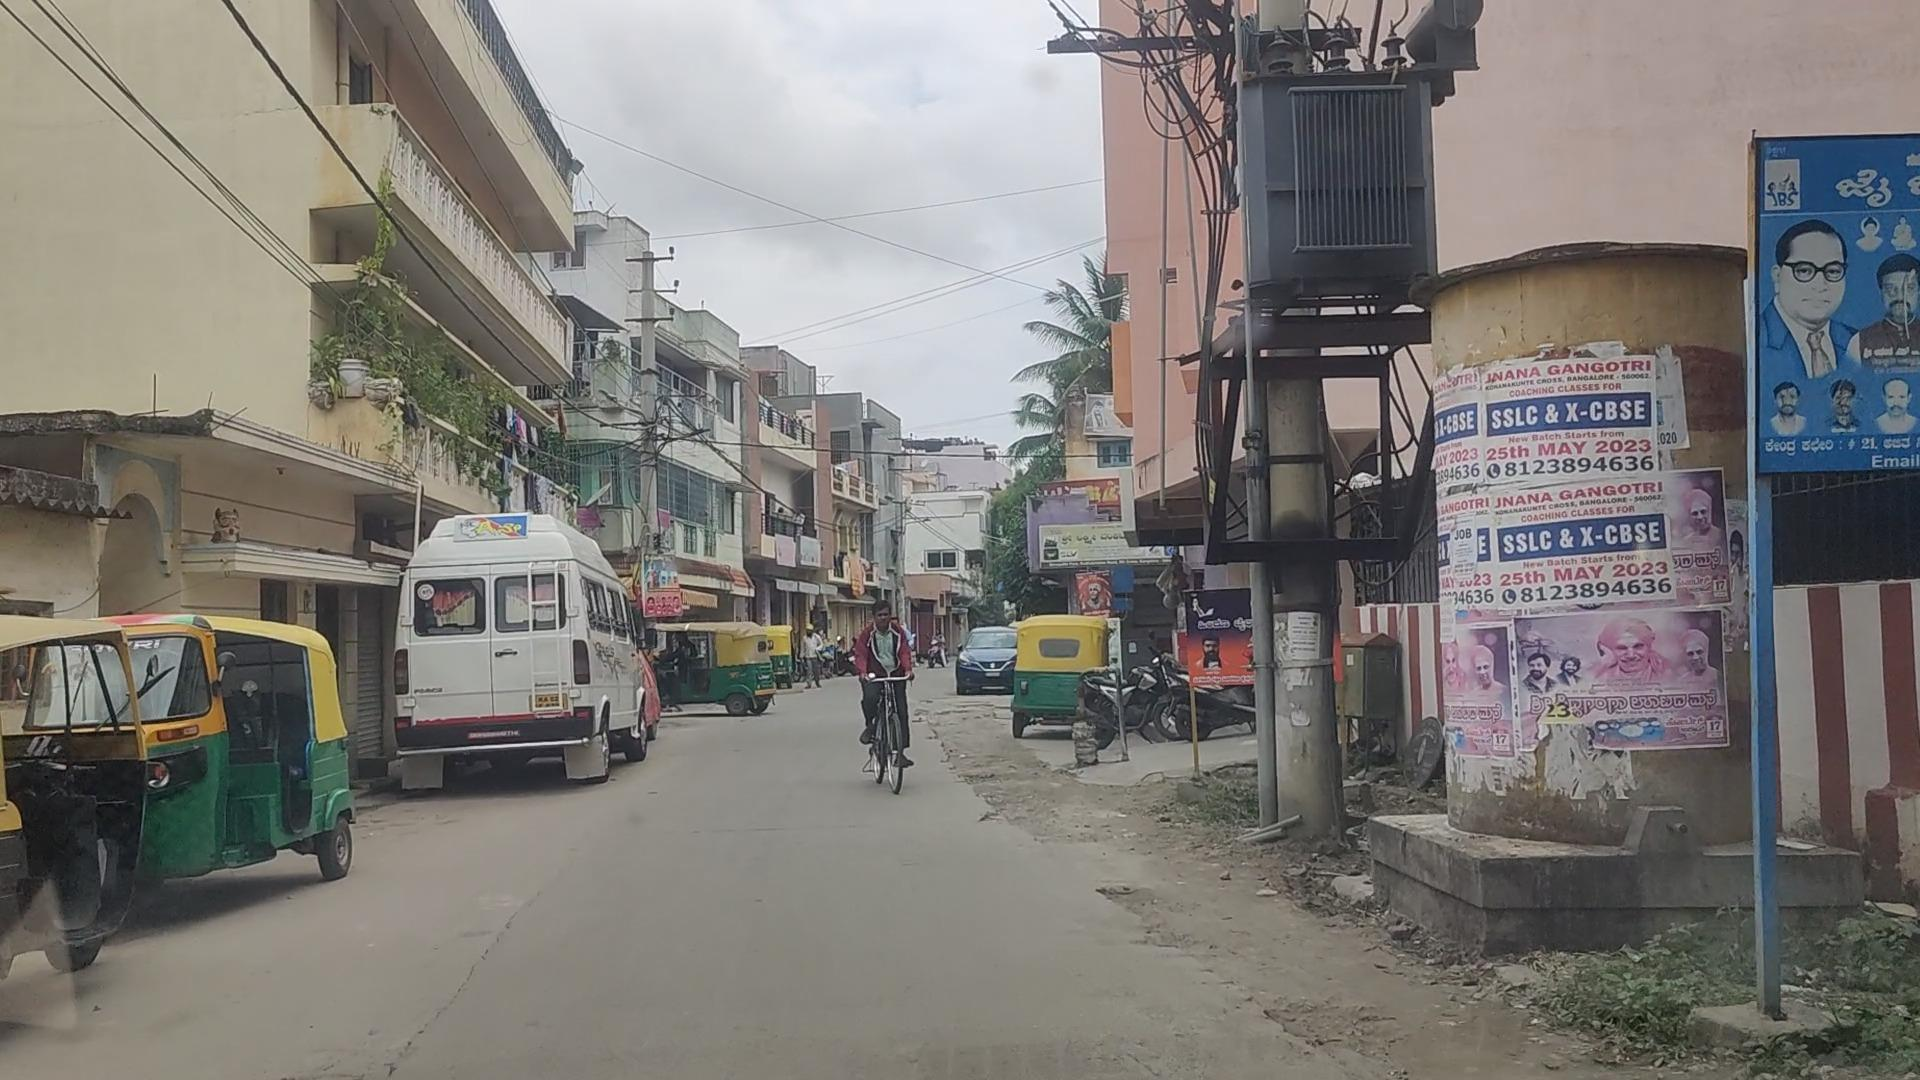HMV: (407, 524, 644, 770)
LMV: (79, 615, 356, 906), (853, 608, 909, 799)
RoadDamages: (1244, 988, 1373, 1063), (924, 724, 988, 778), (964, 782, 1030, 824)
